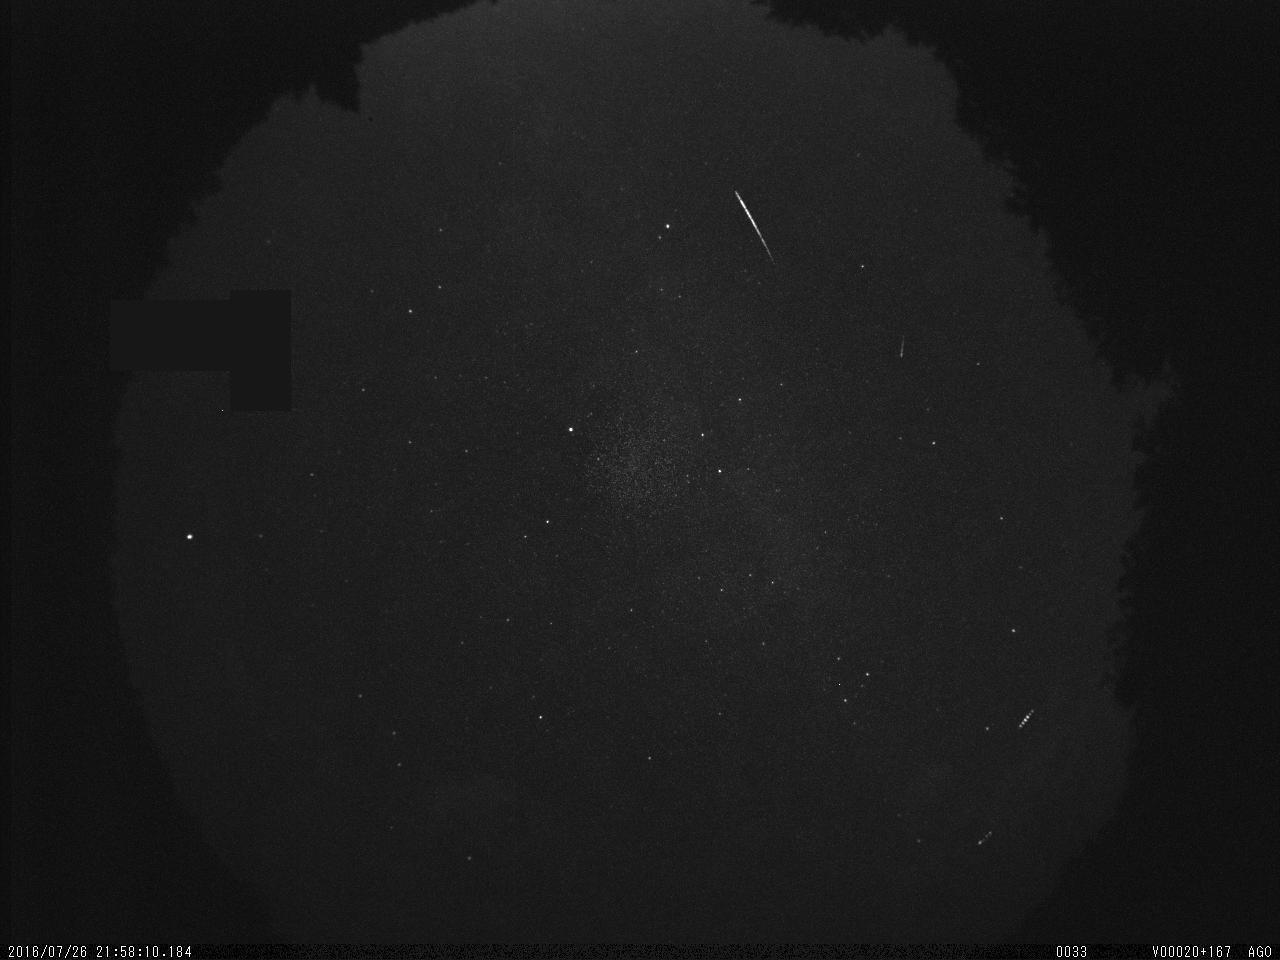Meteor: (732, 188, 775, 265)
